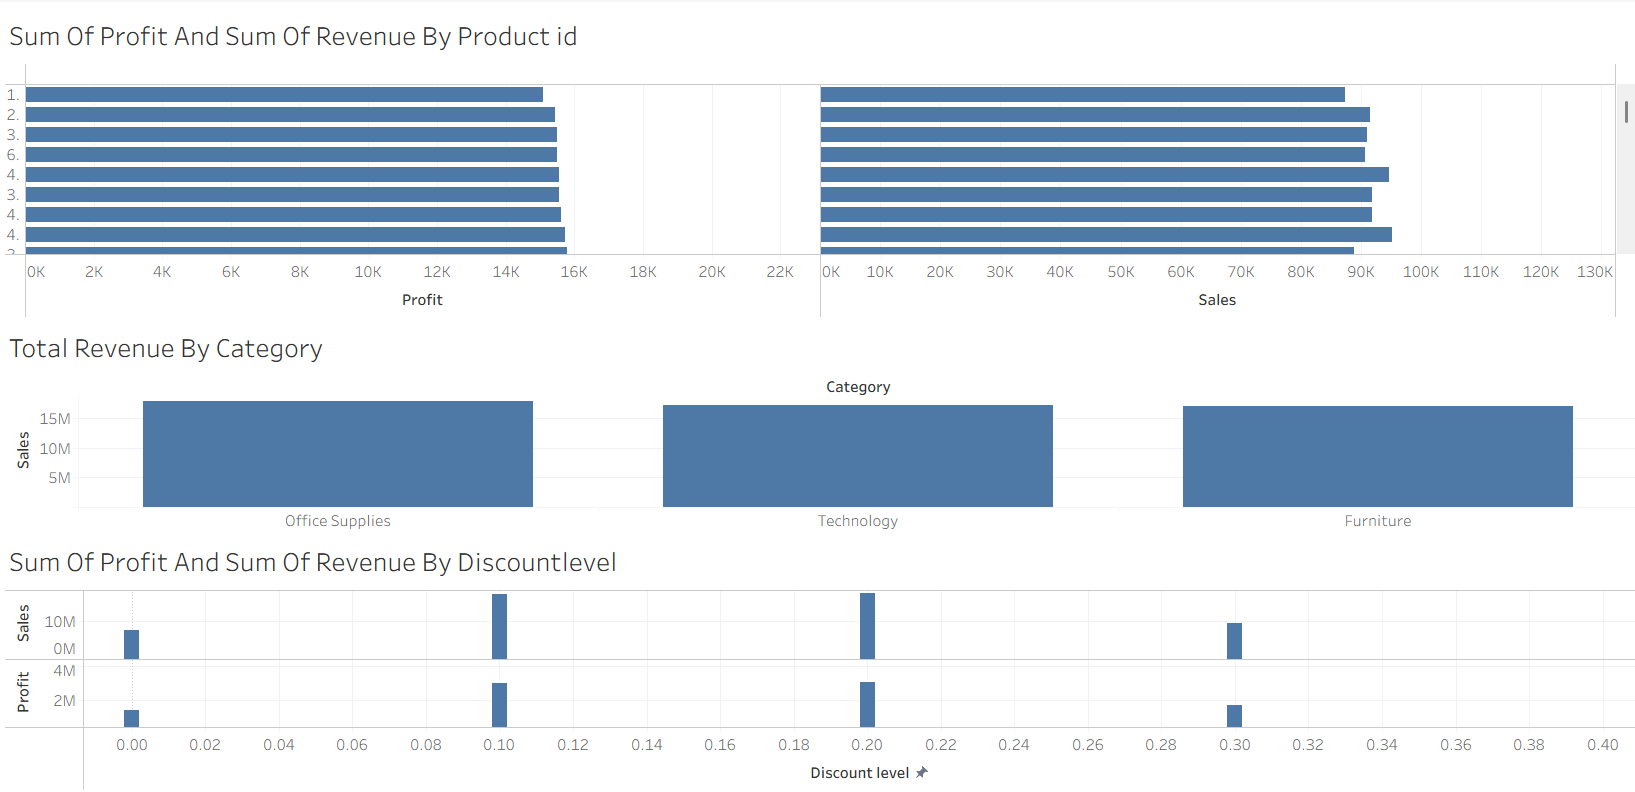

What the dashboard file says about the page in this screenshot:
{"tool":"tableau","page":{"name":"PRODUCT ANALYTICS","canvas":[1000,1000],"units":"permille","ordinal":2},"visuals":[{"type":"worksheet","title":"Sheet 13","mark":"Automatic","rows":["product_id"],"cols":["profit","sales"],"box":[4.8,10,990.3,389.5]},{"type":"worksheet","title":"Sheet 14","mark":"Automatic","rows":["sales"],"cols":["category"],"box":[4.8,399.5,990.3,267.2]},{"type":"worksheet","title":"Sheet 15","mark":"Bar","rows":["sales","profit"],"cols":["Calculation_1330472676806709"],"box":[4.8,666.7,990.3,323.3]}]}

Visuals, with their boxes on the dashboard's canvas, which has no fixed pixel size, in thousandths of its width and height (x1, y1, x2, y2). These are canvas units, not pixel positions in the 1635x792 screenshot, which may show the page scaled, cropped or inside an application window:
"Sheet 13" worksheet: 5 10 995 400
"Sheet 14" worksheet: 5 400 995 667
"Sheet 15" worksheet (Bar marks): 5 667 995 990
